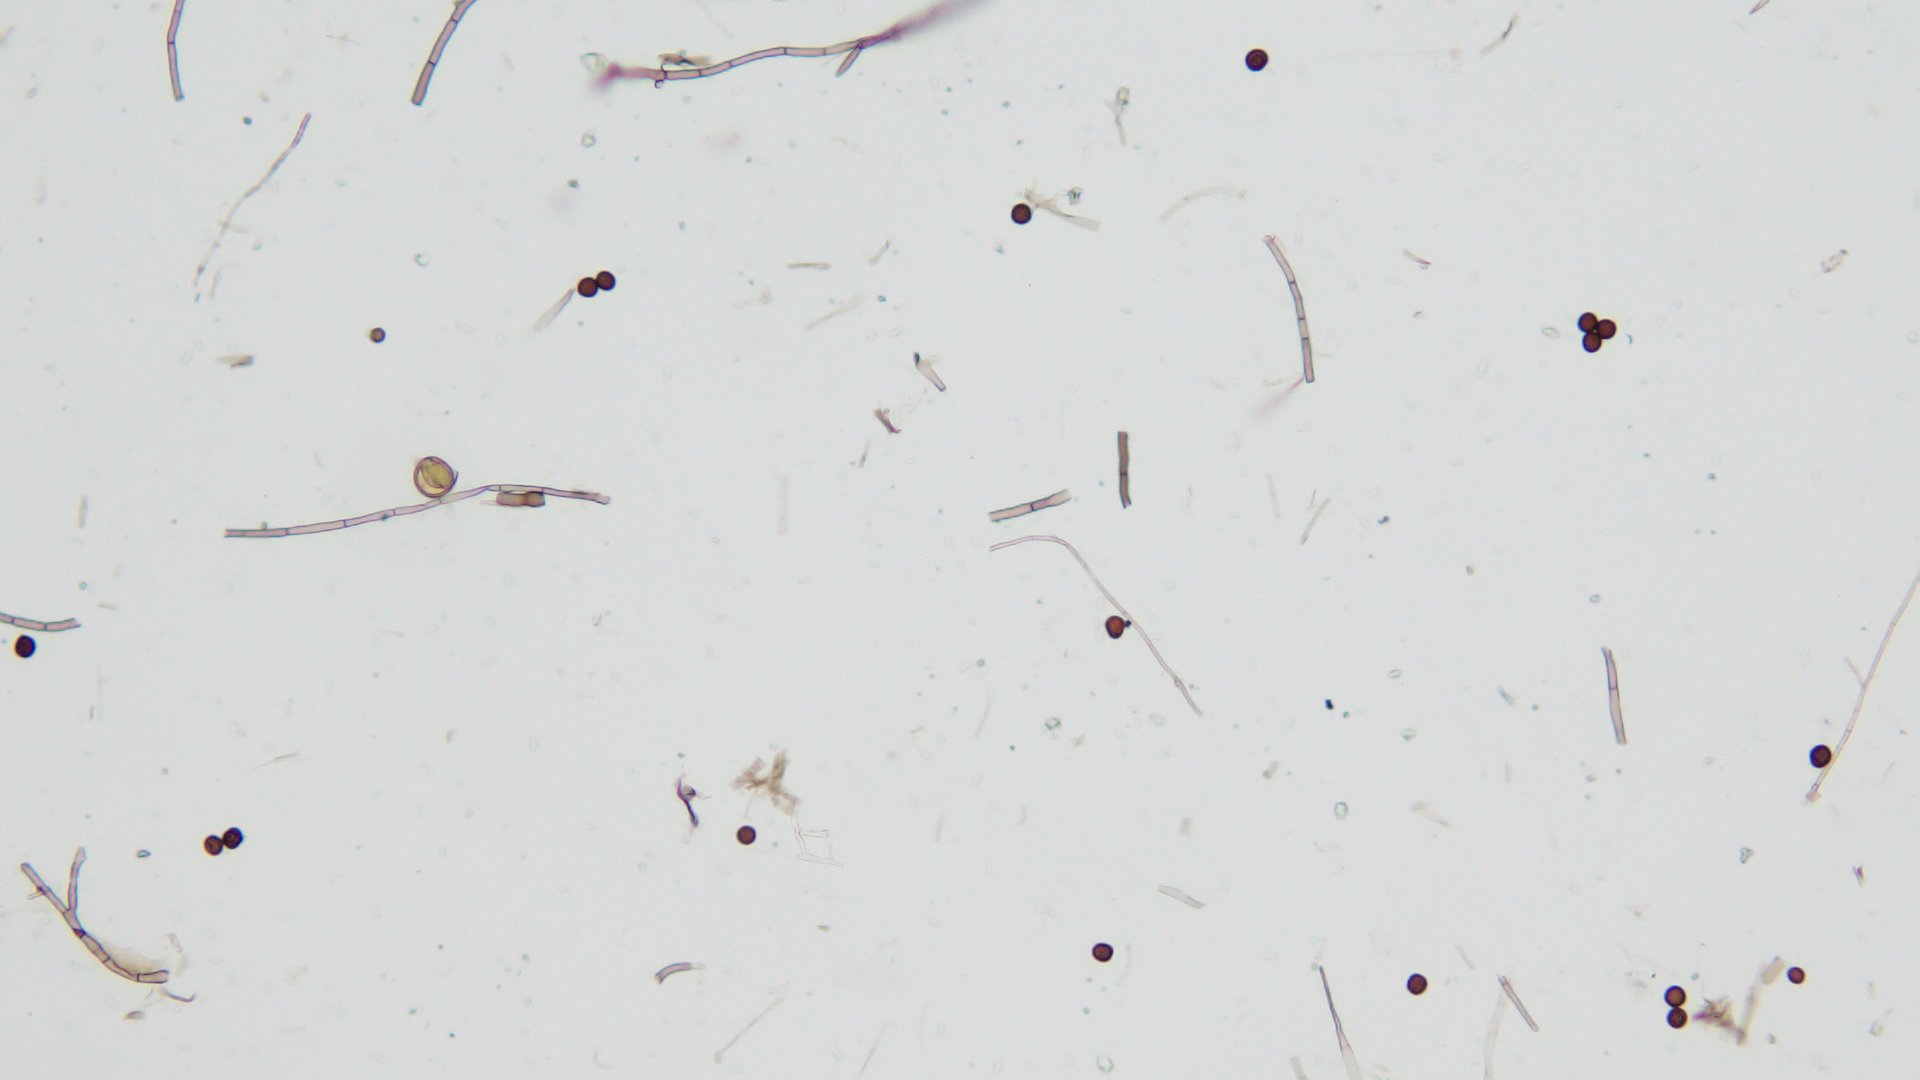shs_spore: (1242, 47, 1270, 73), (1664, 1005, 1691, 1030), (1089, 943, 1116, 967), (575, 276, 599, 301), (13, 636, 36, 659), (1010, 203, 1034, 225), (1809, 742, 1833, 765), (1104, 616, 1125, 640), (222, 829, 247, 849), (735, 825, 757, 847), (1581, 334, 1605, 353), (1406, 975, 1427, 996), (1664, 986, 1687, 1006), (1578, 313, 1598, 332), (595, 273, 616, 291), (1597, 320, 1618, 339), (1785, 967, 1808, 984), (203, 837, 223, 855)
xb_spore: (413, 454, 458, 498)
